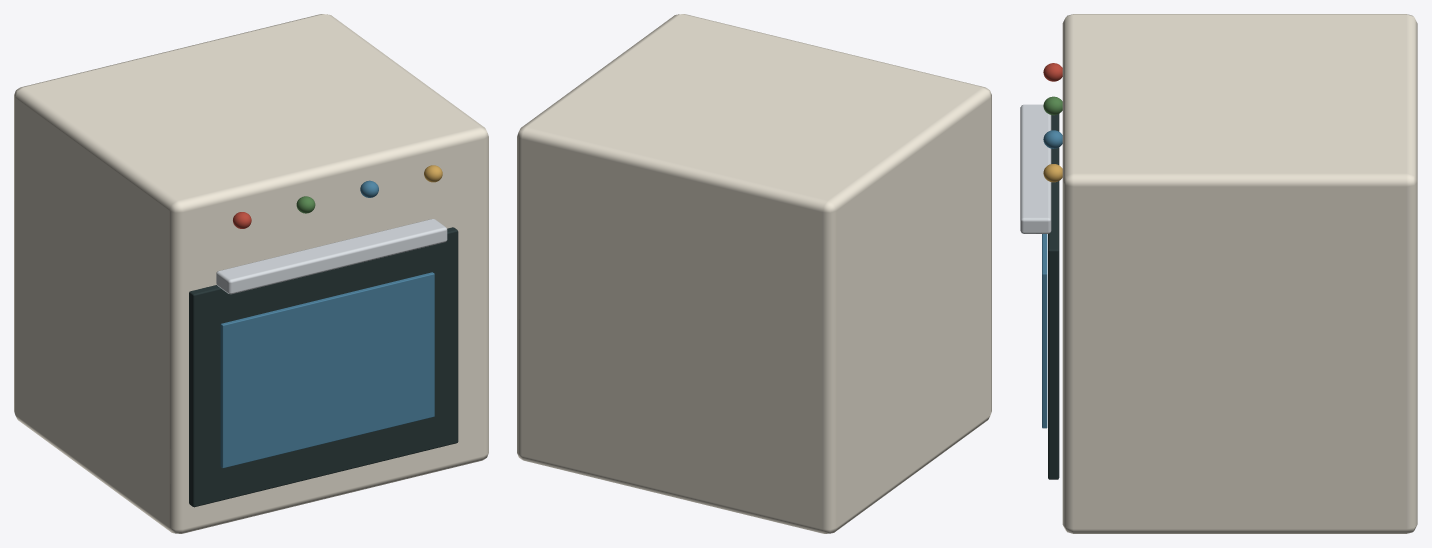
File: wp-four-encastrable.glb
3 renders of one model, left to right at view 1: azimuth 30°, elevation 25°; view 2: azimuth 150°, elevation 25°; view 3: azimuth 270°, elevation 25°, orthographic. The views are drawn at different scales.
Visible parts, largest first — view 1: wp-four-encastrable; view 2: wp-four-encastrable; view 3: wp-four-encastrable.
Boxes of the visible parts, x1,y1,x2,y2 form: wp-four-encastrable: (14,14,488,533); wp-four-encastrable: (517,14,991,533); wp-four-encastrable: (1020,14,1417,533).
Bounding box in the file's own units: 0.6 × 0.6 × 0.6.
